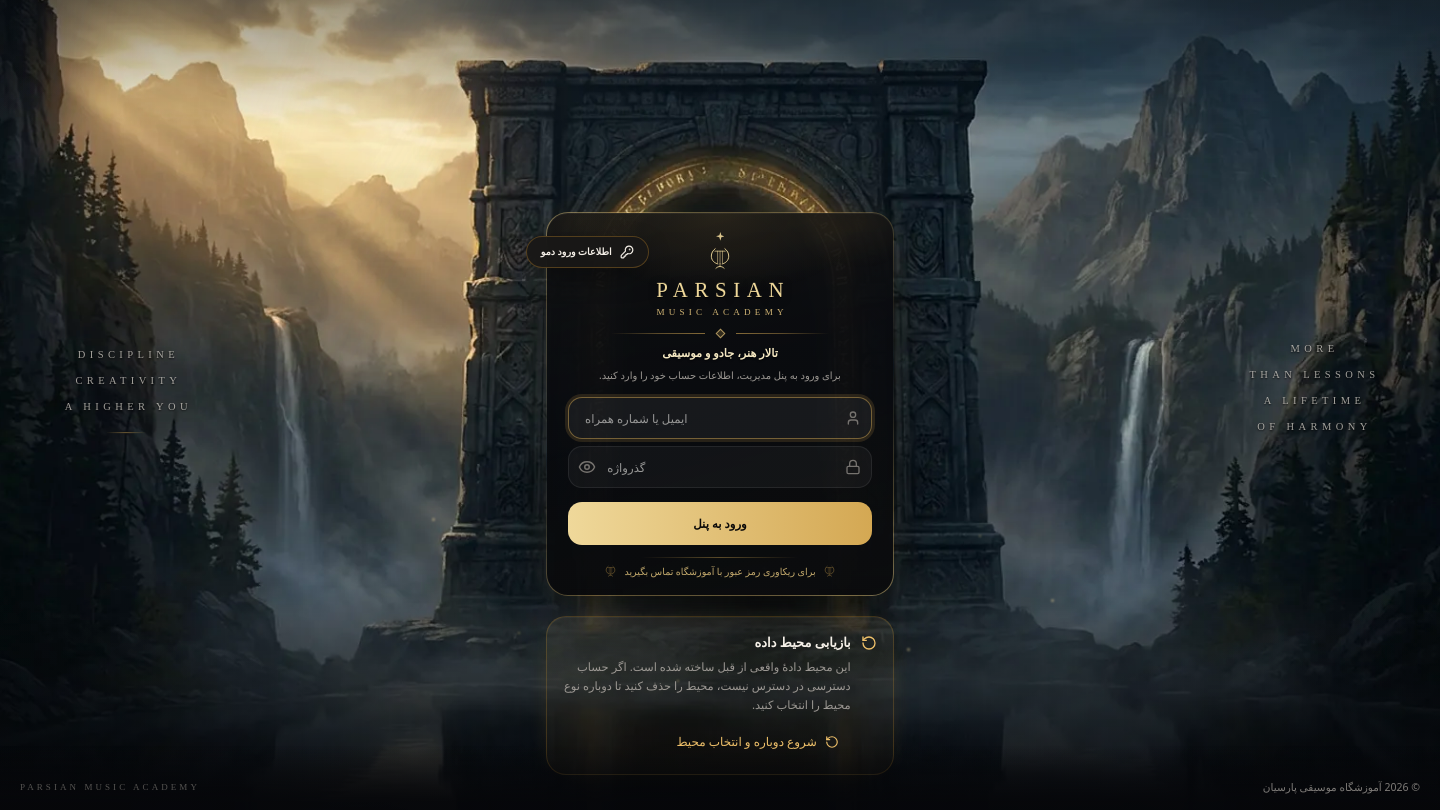
lockout recovery outside the signed-in shell › keeps a cleared environment unchanged when recovery confirmation is cancelled
The width and height of the screenshot is (1440, 810).
What coordinates should you click on to do the following:
click the button "شروع دوباره و انتخاب محیط"
I would click on:
 (758, 742)
Its box is [664,726,851,758].
(page scrolled)
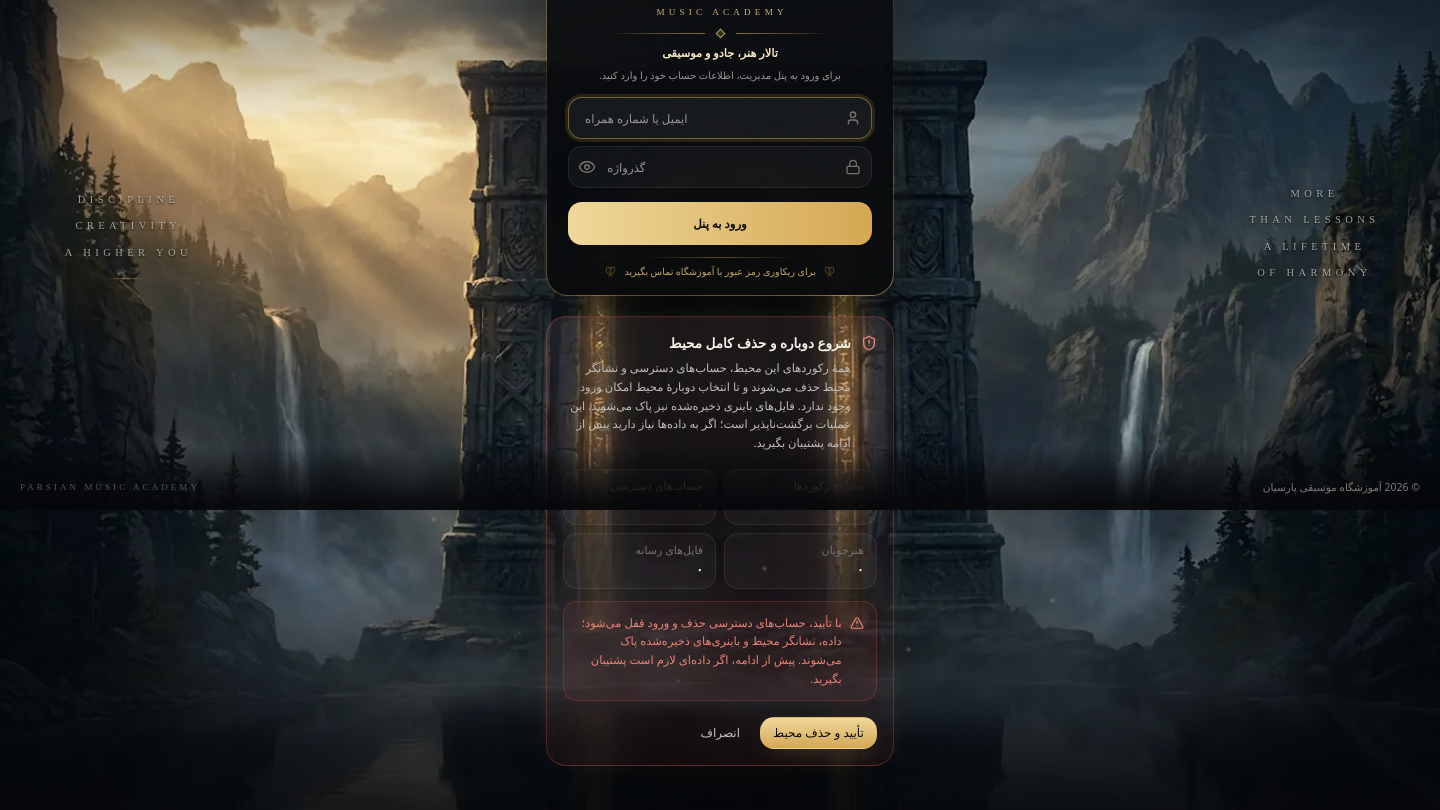
Now the heading "شروع دوباره و حذف کامل محیط" is shown, box [669,334,851,352]
What coordinates should you click on to do the following:
click the button "انصراف"
I would click on:
 (720, 733)
Its box is [688,717,752,749].
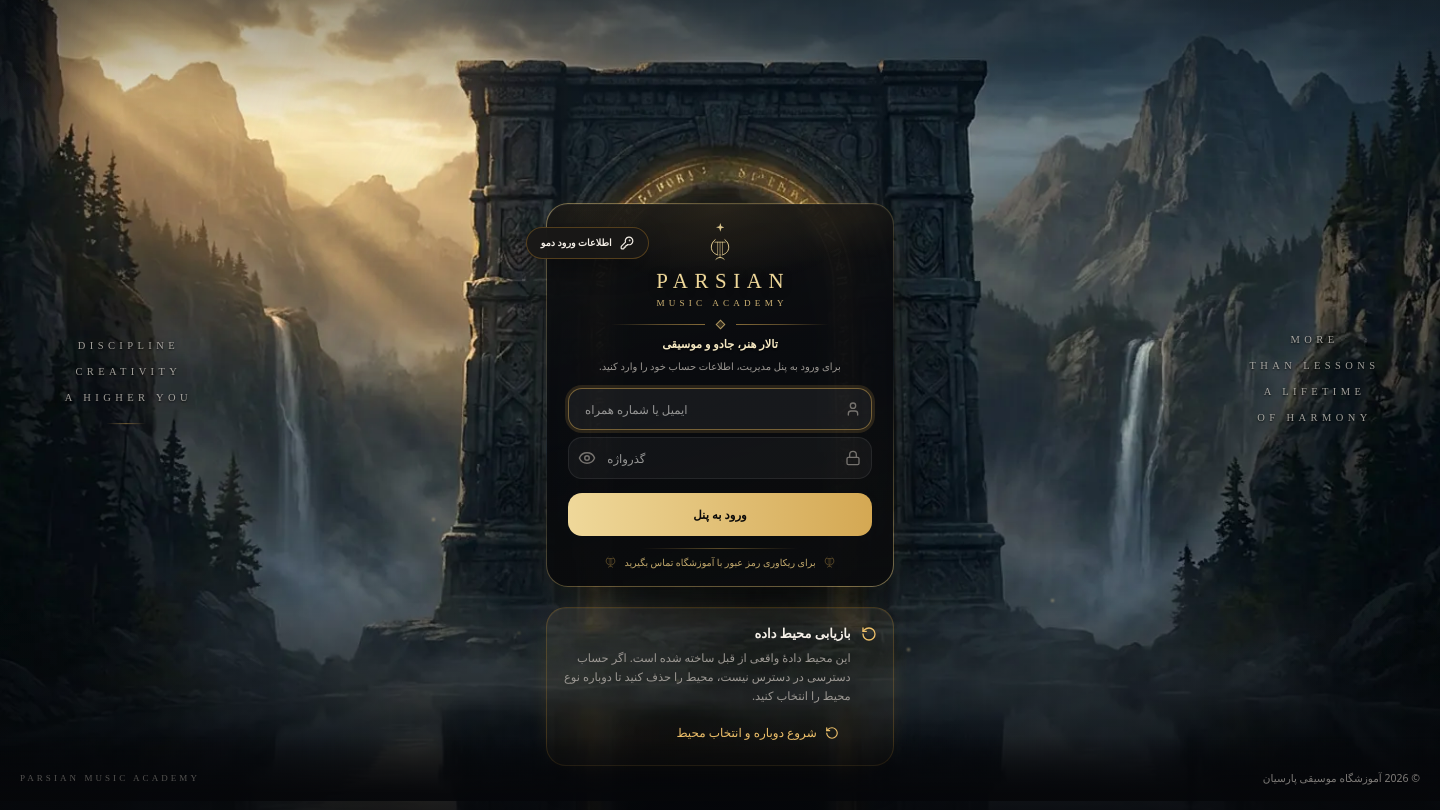
Now the heading "شروع دوباره و حذف کامل محیط" is gone
Now the button "شروع دوباره و انتخاب محیط" is shown, box [664,717,851,749]
